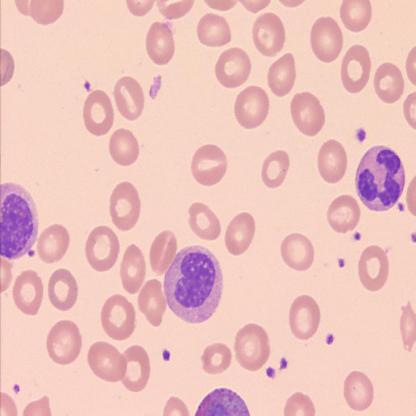Metamyelocyte: (162, 241, 226, 327)
